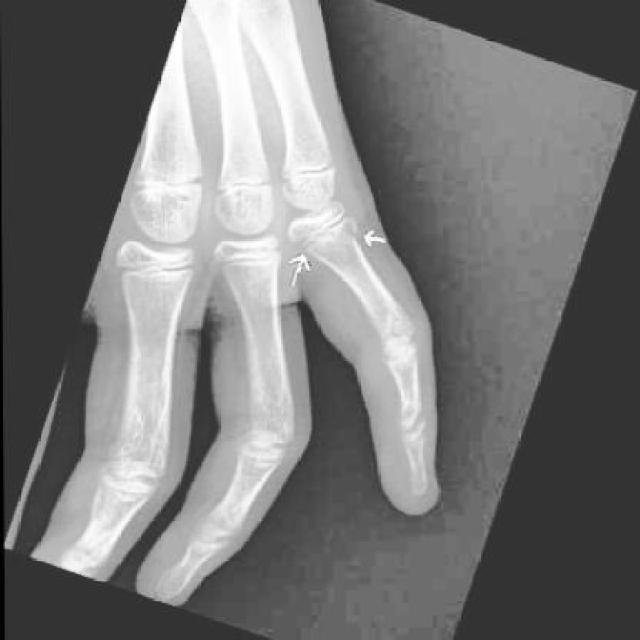Fracture: (292, 200, 376, 280)
